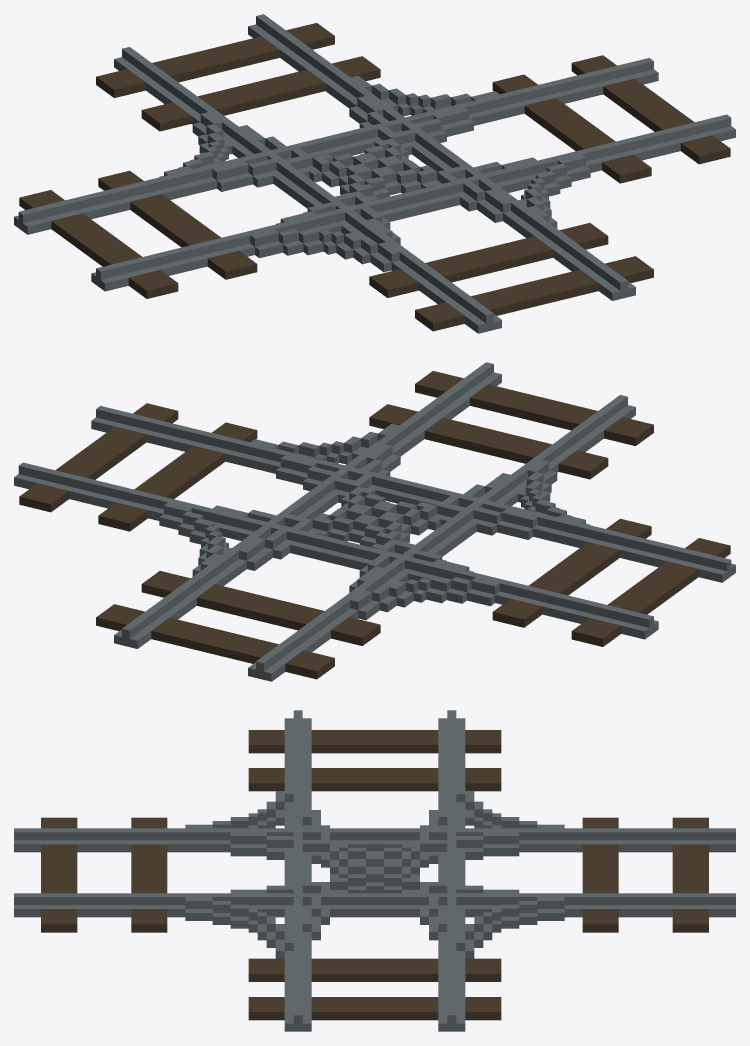
The model's file is railway_cross.obj.
3 renders of one model, top to bottom at view 1: azimuth 30°, elevation 25°; view 2: azimuth 150°, elevation 25°; view 3: azimuth 270°, elevation 25°, orthographic.
Size of the model in its own units: 8 by 0.2 by 8.
1 material, 1 textured.
